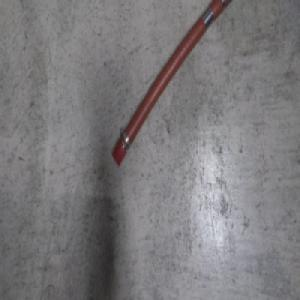Hose: (109, 0, 234, 168)
